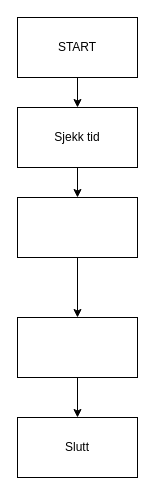
Image size: 155x495. Some labels were removed from this diagram. The shapes that lost their labels are listed below. From the top down, each one's centre as x and y in pixels, then its label:
At (x=77, y=227): "Finn hvilke hilsen".
At (x=77, y=347): "Skriv til cons hilsen".
